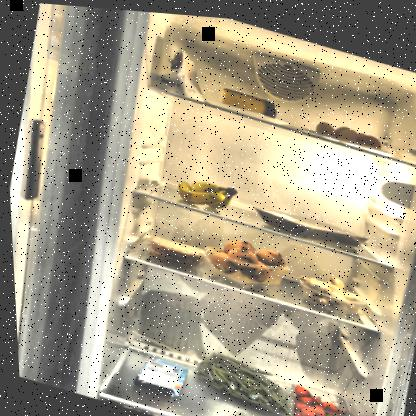banana: (169, 167, 240, 214)
cheese: (215, 81, 281, 118)
chocolate: (126, 349, 187, 398)
eggs: (310, 111, 385, 149)
green_beans: (188, 344, 296, 415)
mushrooms: (292, 261, 368, 312)
onion: (199, 226, 289, 288)
strawberries: (281, 375, 346, 415)
